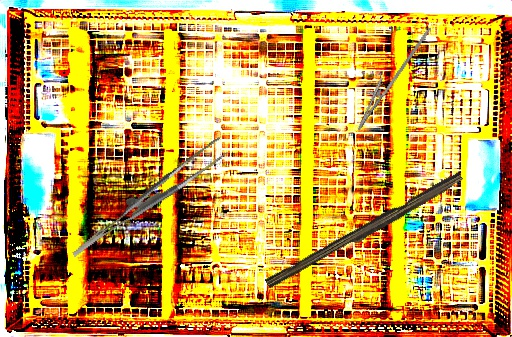Needle Holder: (348, 15, 432, 139)
Scalpel Handle: (264, 168, 466, 295)
Tissue Forceps: (56, 137, 238, 257)
